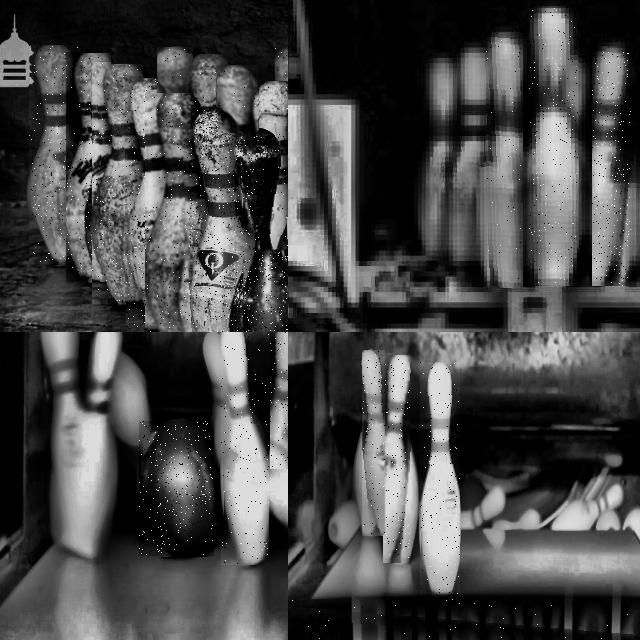bowling-ball: (139, 421, 214, 555)
bowling-pins: (146, 93, 202, 332), (530, 7, 578, 284), (190, 110, 243, 332), (93, 64, 142, 302), (221, 332, 269, 565), (29, 46, 80, 263), (234, 131, 288, 332), (127, 79, 170, 331), (66, 54, 111, 279), (486, 34, 522, 287), (593, 47, 631, 286), (421, 362, 460, 594), (383, 355, 410, 560), (256, 81, 288, 248), (362, 351, 384, 535), (219, 65, 258, 133), (218, 65, 257, 133), (270, 332, 288, 453), (191, 54, 226, 108), (158, 48, 191, 93), (275, 47, 288, 85)
sweep board: (288, 606, 640, 640)
